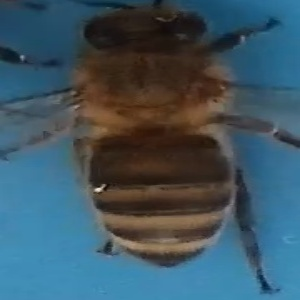bee: (3, 3, 298, 294)
